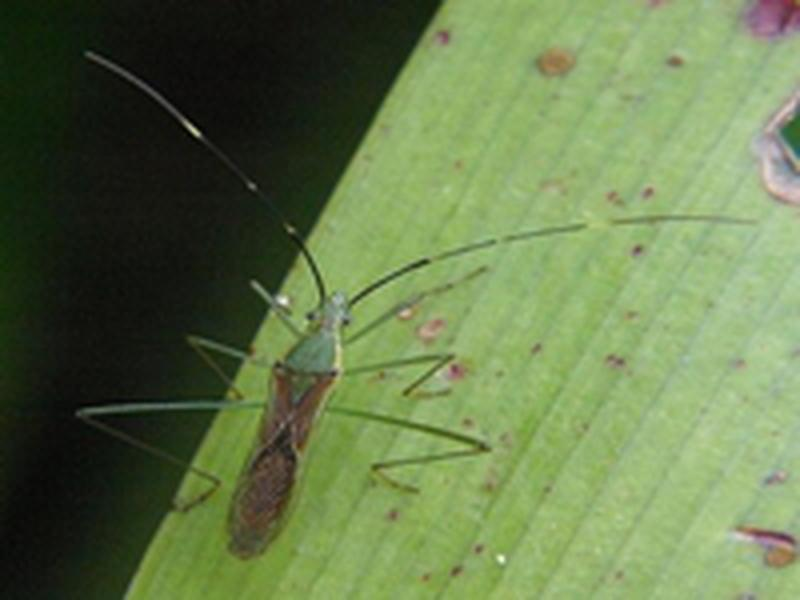Rice_earhead_bug: (191, 248, 387, 584)
